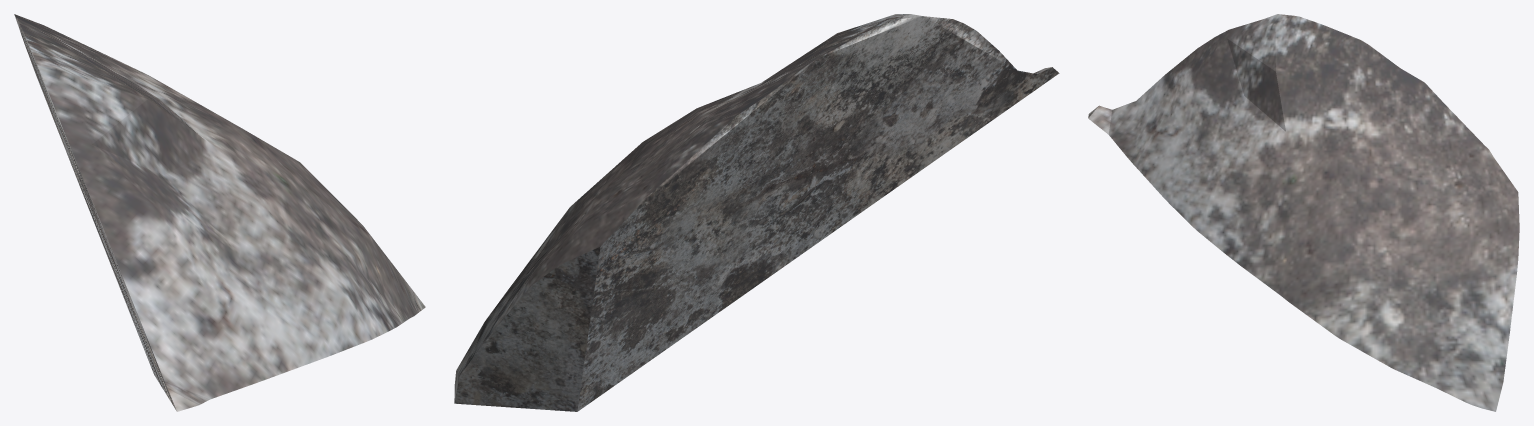
The model's file is Asteroid_Large_001_02_010.fbx.
The picture shows the model from 3 angles, left to right: view 1: azimuth 30°, elevation 25°; view 2: azimuth 150°, elevation 25°; view 3: azimuth 270°, elevation 25°; orthographic projection. The views are drawn at different scales.
Parts seen in each view (by area): view 1: Asteroid_Large_001_02_010; view 2: Asteroid_Large_001_02_010; view 3: Asteroid_Large_001_02_010.
Boxes of the visible parts, x1,y1,x2,y2 form: Asteroid_Large_001_02_010: (14, 14, 425, 411); Asteroid_Large_001_02_010: (454, 14, 1059, 411); Asteroid_Large_001_02_010: (1088, 14, 1519, 411).
Bounding box in the file's own units: 17.18 × 16.85 × 23.49.
